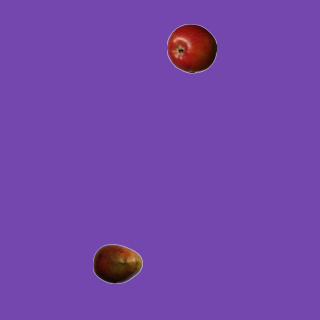Apple Braeburn: (166, 23, 216, 73)
Mango Red: (92, 238, 142, 288)
